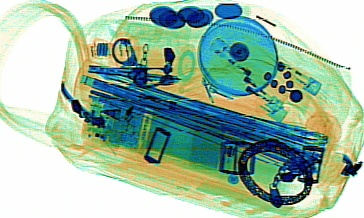lighter: (237, 42, 321, 96), (203, 56, 283, 110), (204, 73, 287, 120), (208, 36, 271, 85)
